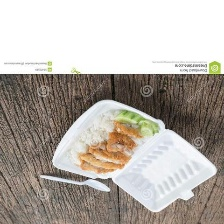foam_box: (47, 96, 220, 215)
